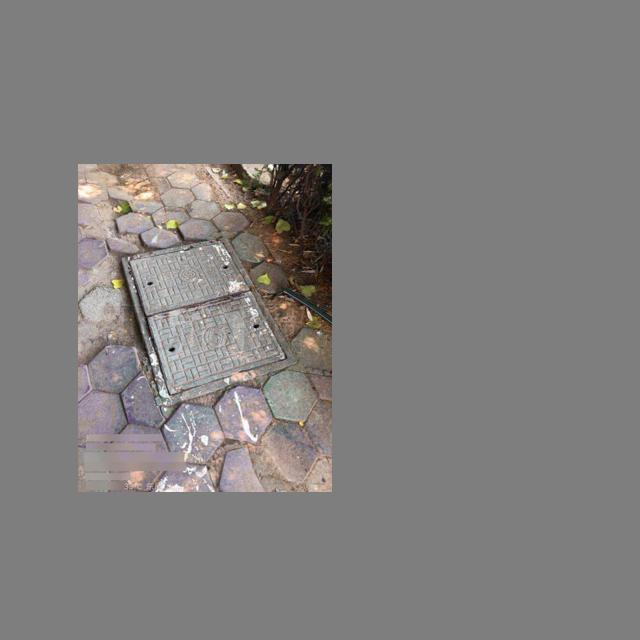good: (122, 236, 298, 405)
